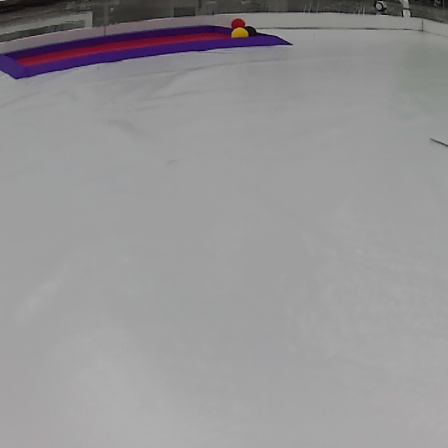black: (247, 25, 258, 34)
red: (233, 19, 242, 28)
red_aim: (0, 23, 297, 75)
yellow: (233, 28, 249, 39)
